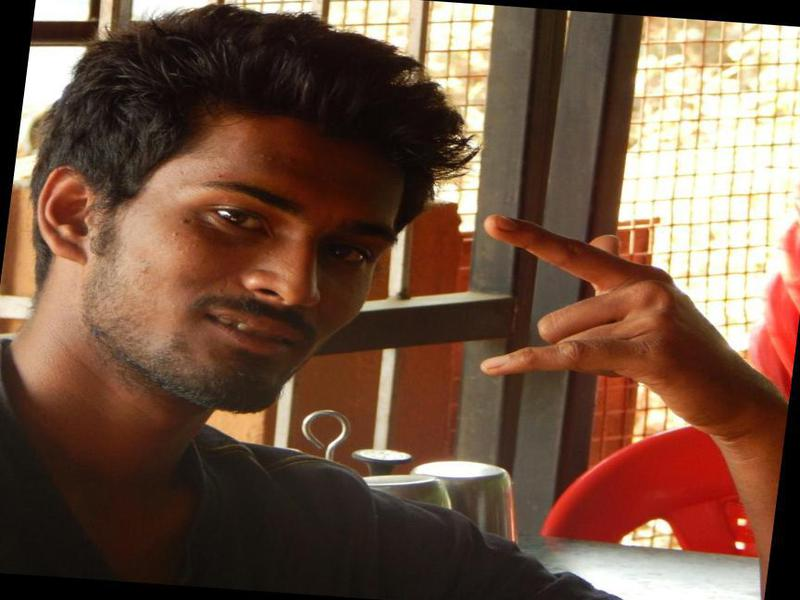without_mask: (93, 116, 399, 404)
